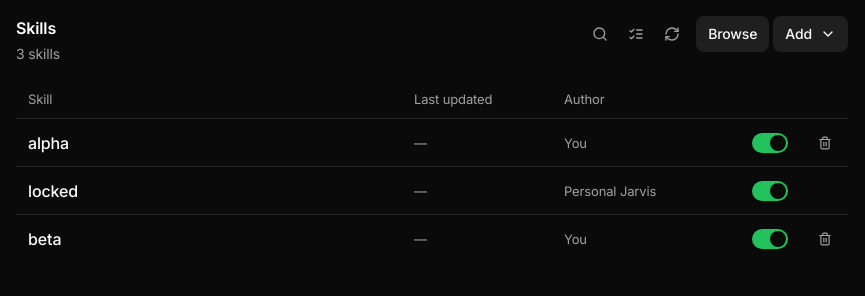
Scenario: SkillsView — multi-select bulk delete › select-all checks every deletable skill but never a built-in
Expected: the text "alpha" is shown, [28,130,69,154]
What coordinates should you click on to do the following:
click the button named "Select"
I would click on:
 (636, 34)
Its box is [620,18,652,50].
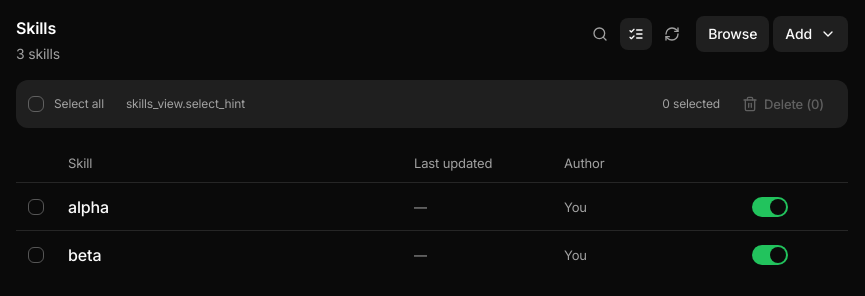
What coordinates should you click on to do the following:
click the checkbox named "select all"
I would click on:
 (36, 104)
Its box is [28,96,44,112].
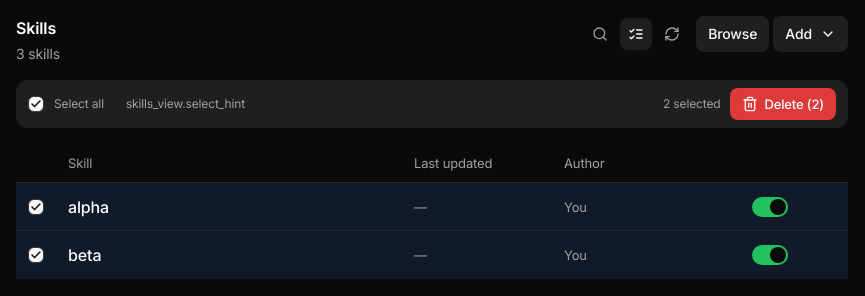
Expected: the button "Delete (2)" is shown, [730,88,836,120]
